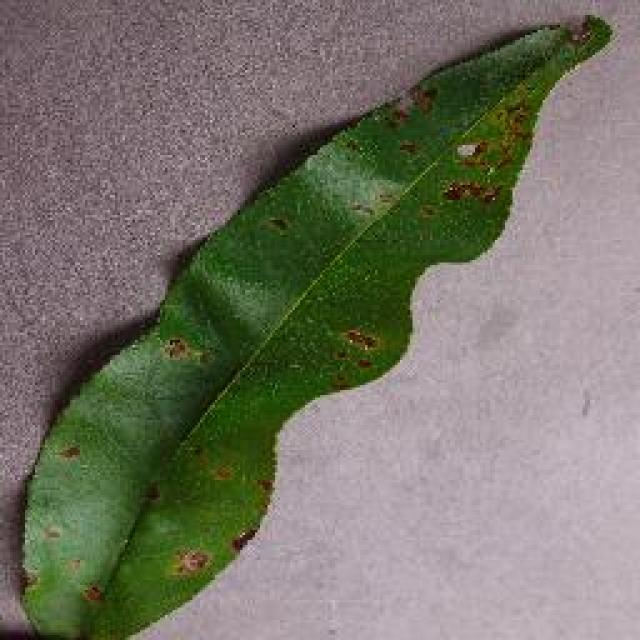Peach_Bacterial_Spot: (210, 185, 452, 403)
